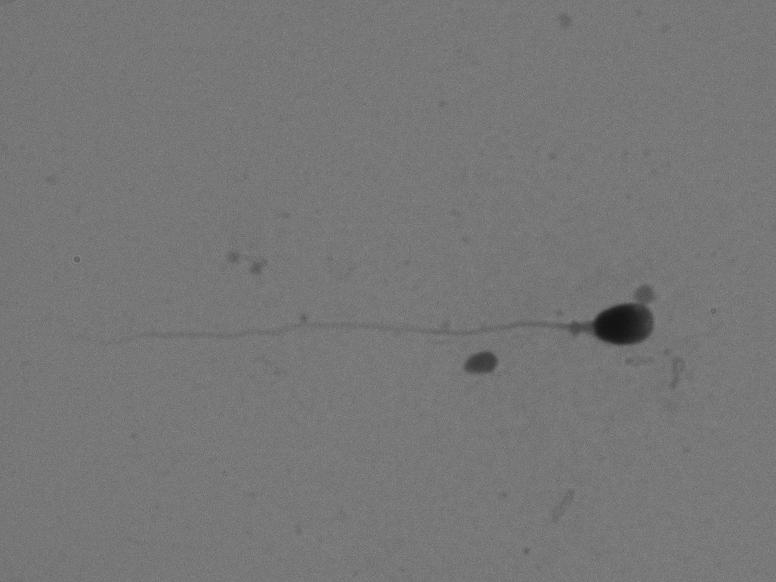Normal: (84, 266, 679, 362)
